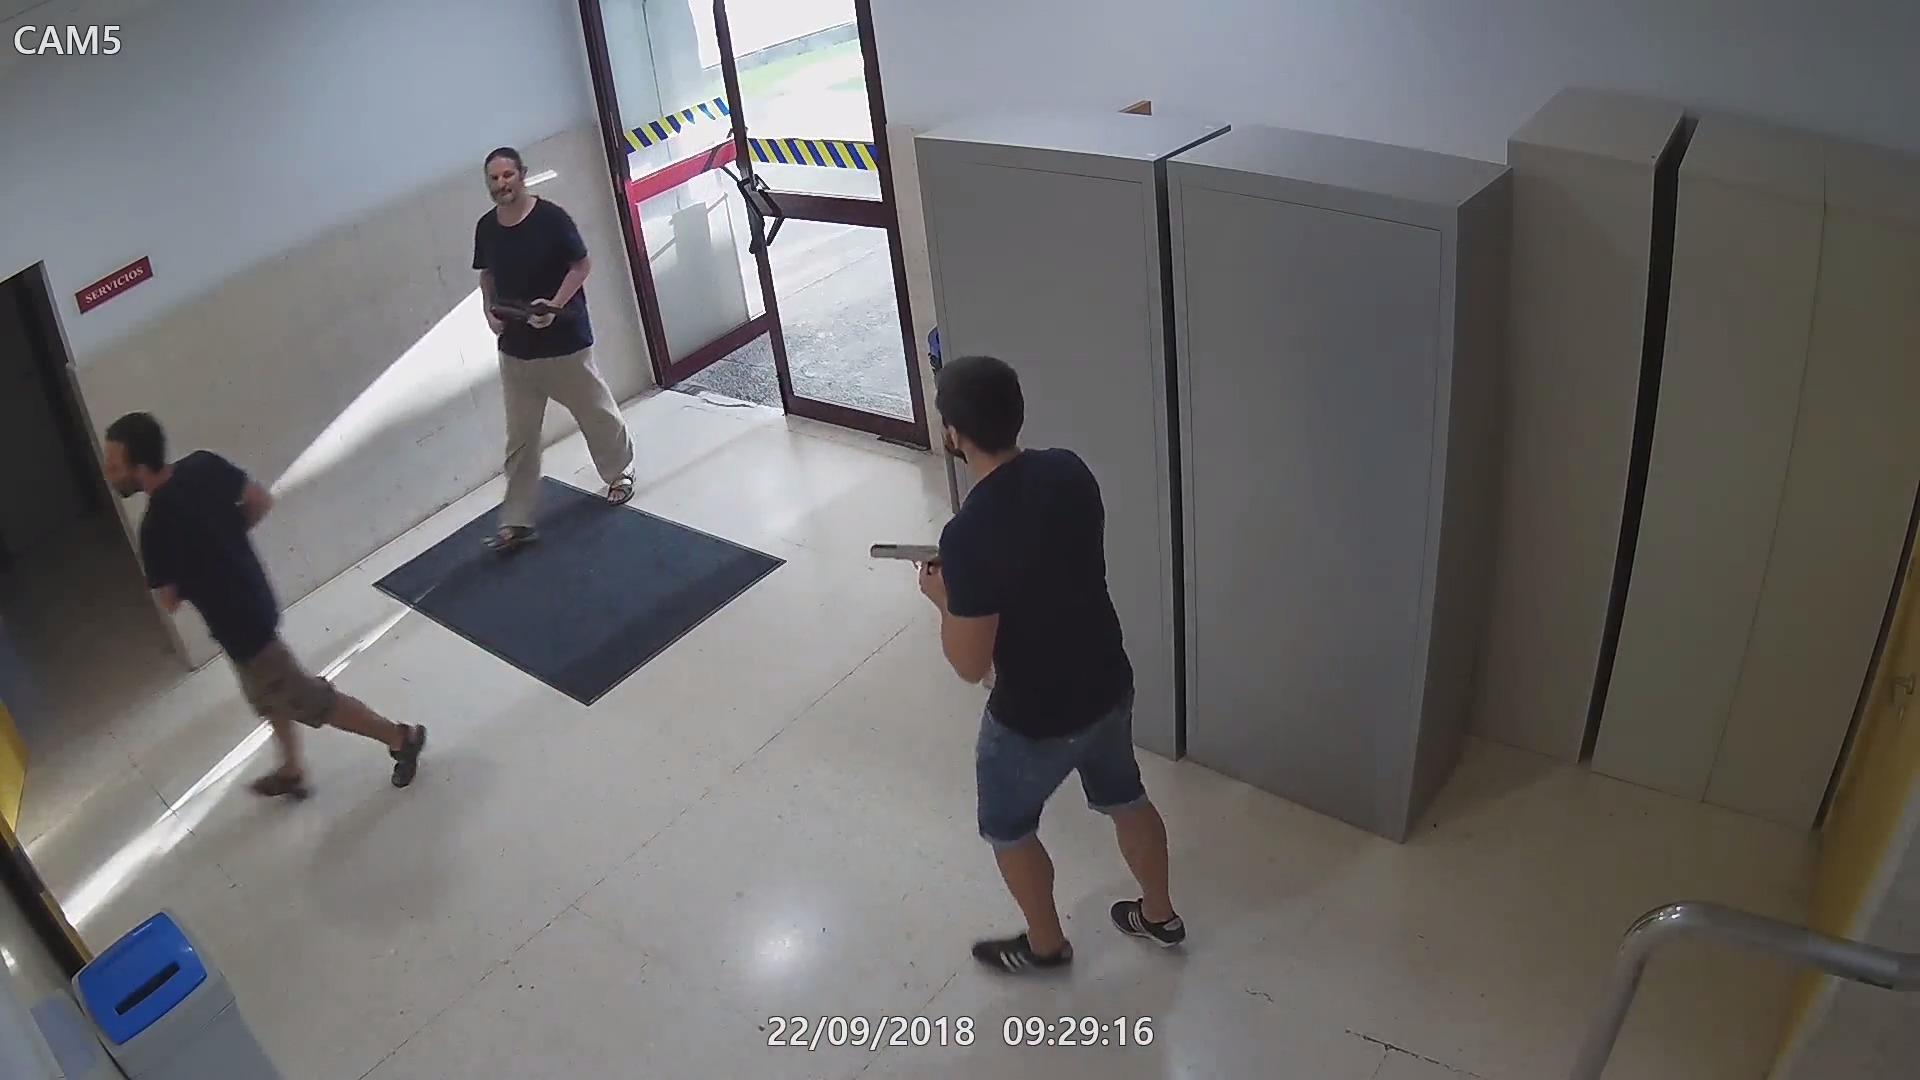Handgun: (866, 541, 948, 601)
Short_rifle: (480, 297, 585, 342)
